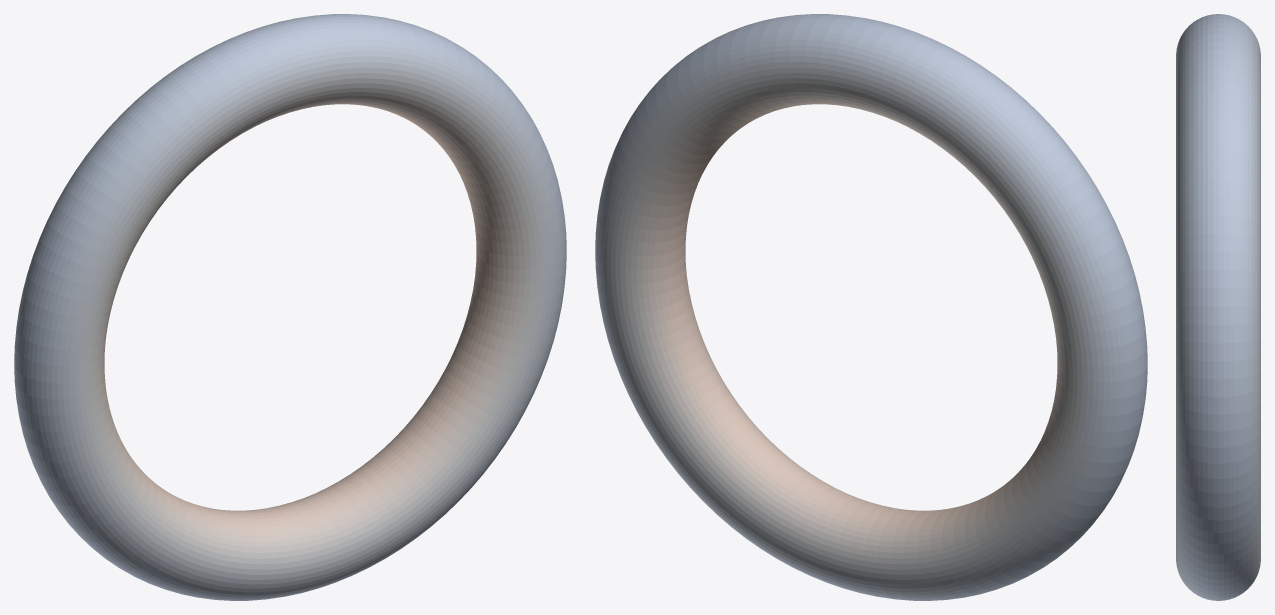
3 renders of one model, left to right at view 1: azimuth 30°, elevation 25°; view 2: azimuth 150°, elevation 25°; view 3: azimuth 270°, elevation 25°, orthographic. The views are drawn at different scales.
Parts seen in each view (by area): view 1: world; view 2: world; view 3: world.
Part boxes in pixels (left/top/right/bottom): world: left=14, top=14, right=566, bottom=600; world: left=595, top=14, right=1147, bottom=600; world: left=1176, top=14, right=1260, bottom=600.
Bounding box in the file's own units: 30.4 × 30.4 × 4.39.
